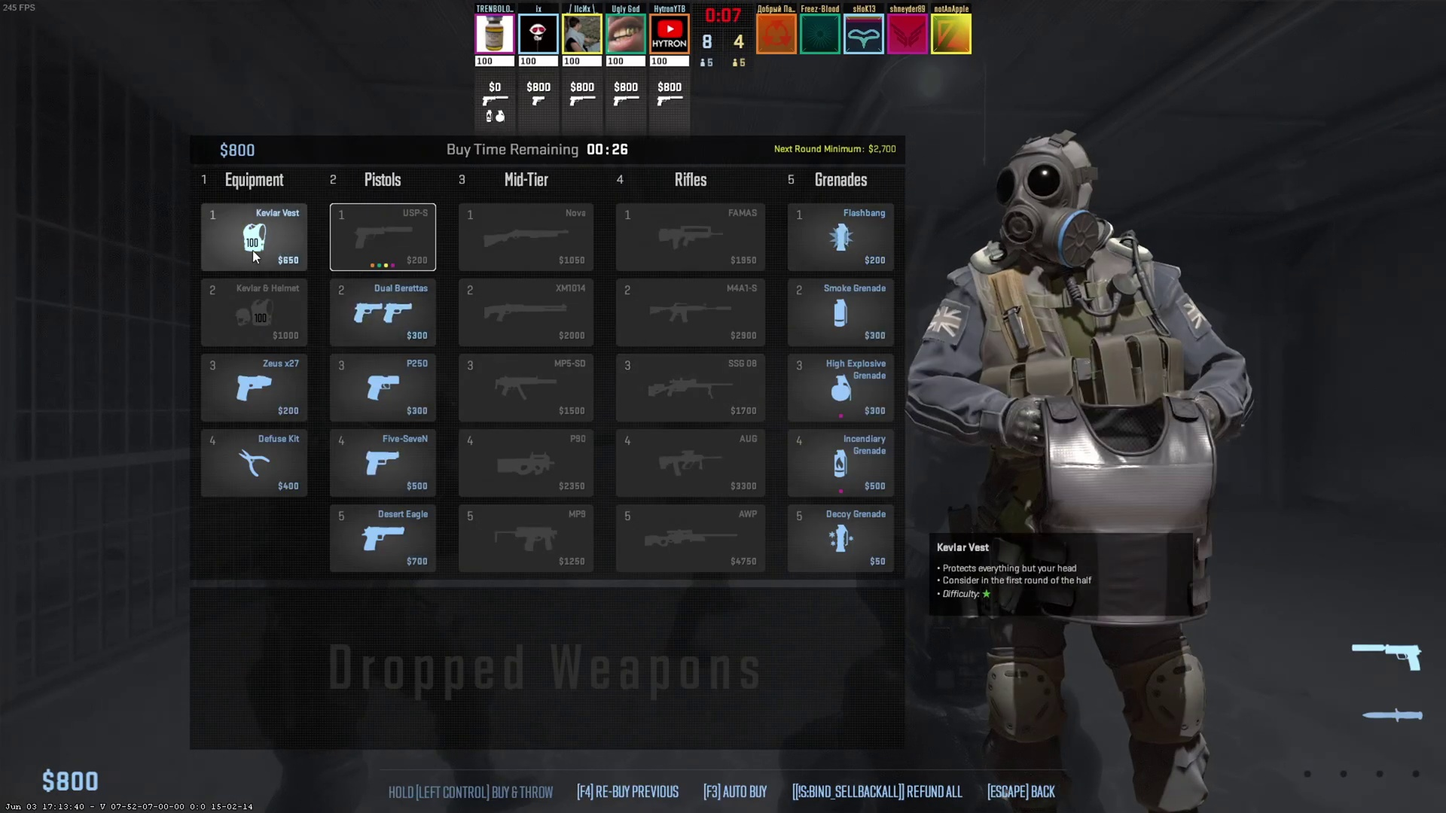CT: (945, 130, 1223, 810)
